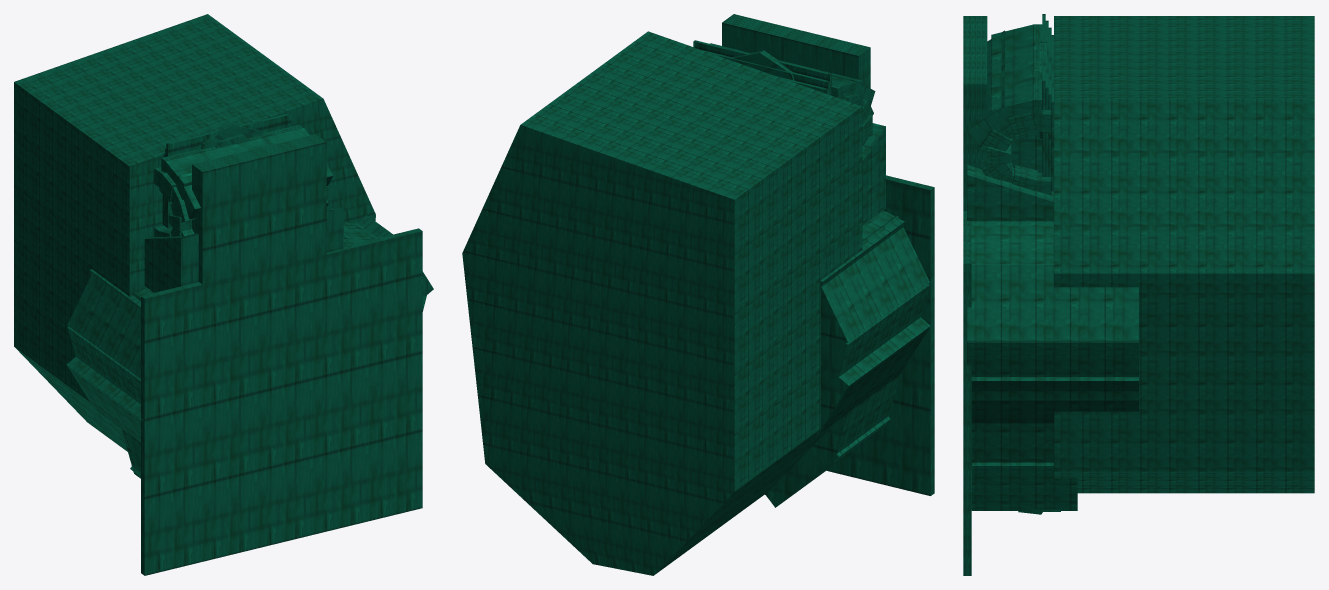
The model's file is room3dp_wtf.obj.
The picture shows the model from 3 angles, left to right: view 1: azimuth 30°, elevation 25°; view 2: azimuth 150°, elevation 25°; view 3: azimuth 270°, elevation 25°; orthographic projection. The views are drawn at different scales.
Visible parts, largest first — view 1: group2; view 2: group2; view 3: group2.
Boxes of the visible parts, x1,y1,x2,y2 form: group2: [14, 14, 433, 575]; group2: [462, 14, 934, 575]; group2: [963, 14, 1314, 575].
Bounding box in the file's own units: 506 × 660 × 470.
